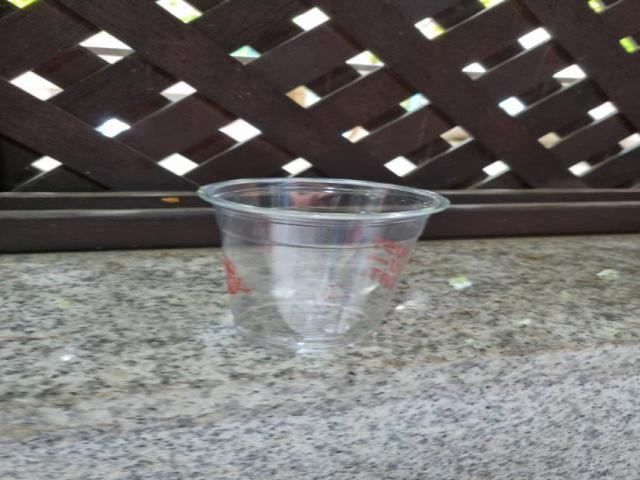cup: (186, 170, 459, 358)
